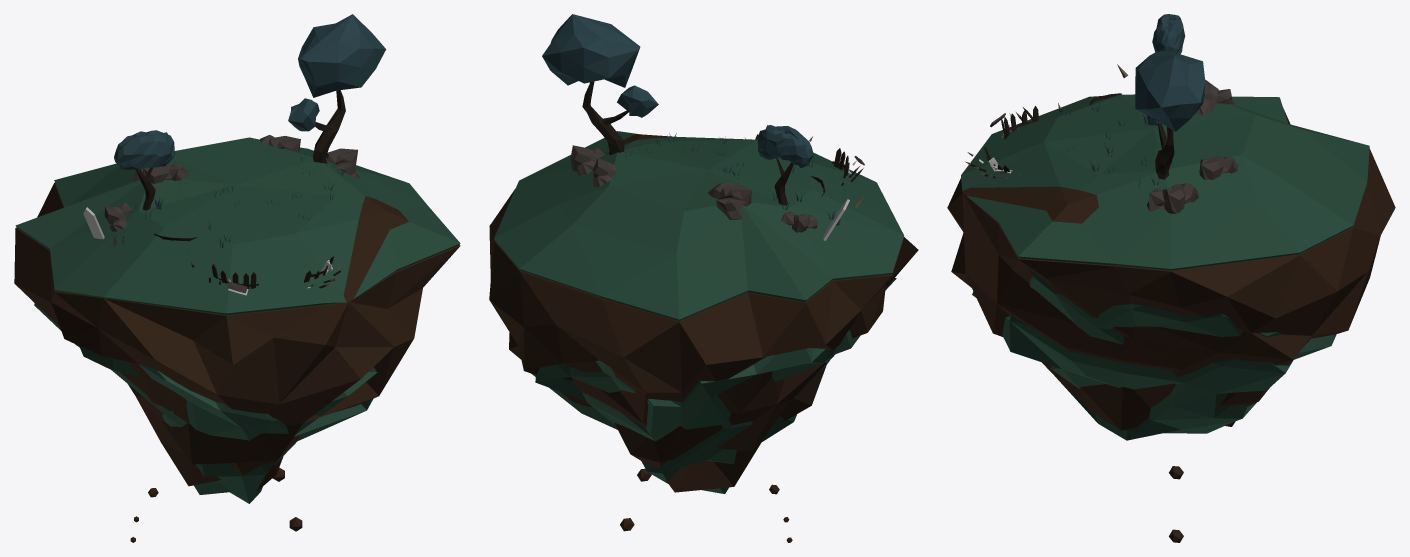
File: Ilha.FBX
3 renders of one model, left to right at view 1: azimuth 30°, elevation 25°; view 2: azimuth 150°, elevation 25°; view 3: azimuth 270°, elevation 25°, orthographic. The views are drawn at different scales.
Parts seen in each view (by area): view 1: Groun, Ground, Leaves, Leave, Trunk1, Leave1; view 2: Groun, Ground, Leaves, Leave, Trunk1, Leave1; view 3: Groun, Ground, Leaves, Leave, Trunk1, Leaves_4.
Part boxes in pixels (x1,y1,x2,y2): Groun: (15,137,460,503); Ground: (14,182,460,491); Leaves: (298,14,386,97); Leave: (114,130,174,170); Trunk1: (313,90,345,163); Leave1: (288,98,319,131); Groun: (494,131,904,493); Ground: (489,134,918,492); Leaves: (542,14,640,87); Leave: (757,125,813,167); Trunk1: (582,81,624,154); Leave1: (617,85,658,117); Groun: (961,94,1369,440); Ground: (947,109,1395,430); Leaves: (1135,51,1205,131); Leave: (1152,14,1185,54); Trunk1: (1155,127,1174,179); Leaves_4: (1162,184,1185,213).
Size of the model in its own units: 9.59 by 12.58 by 9.95.
